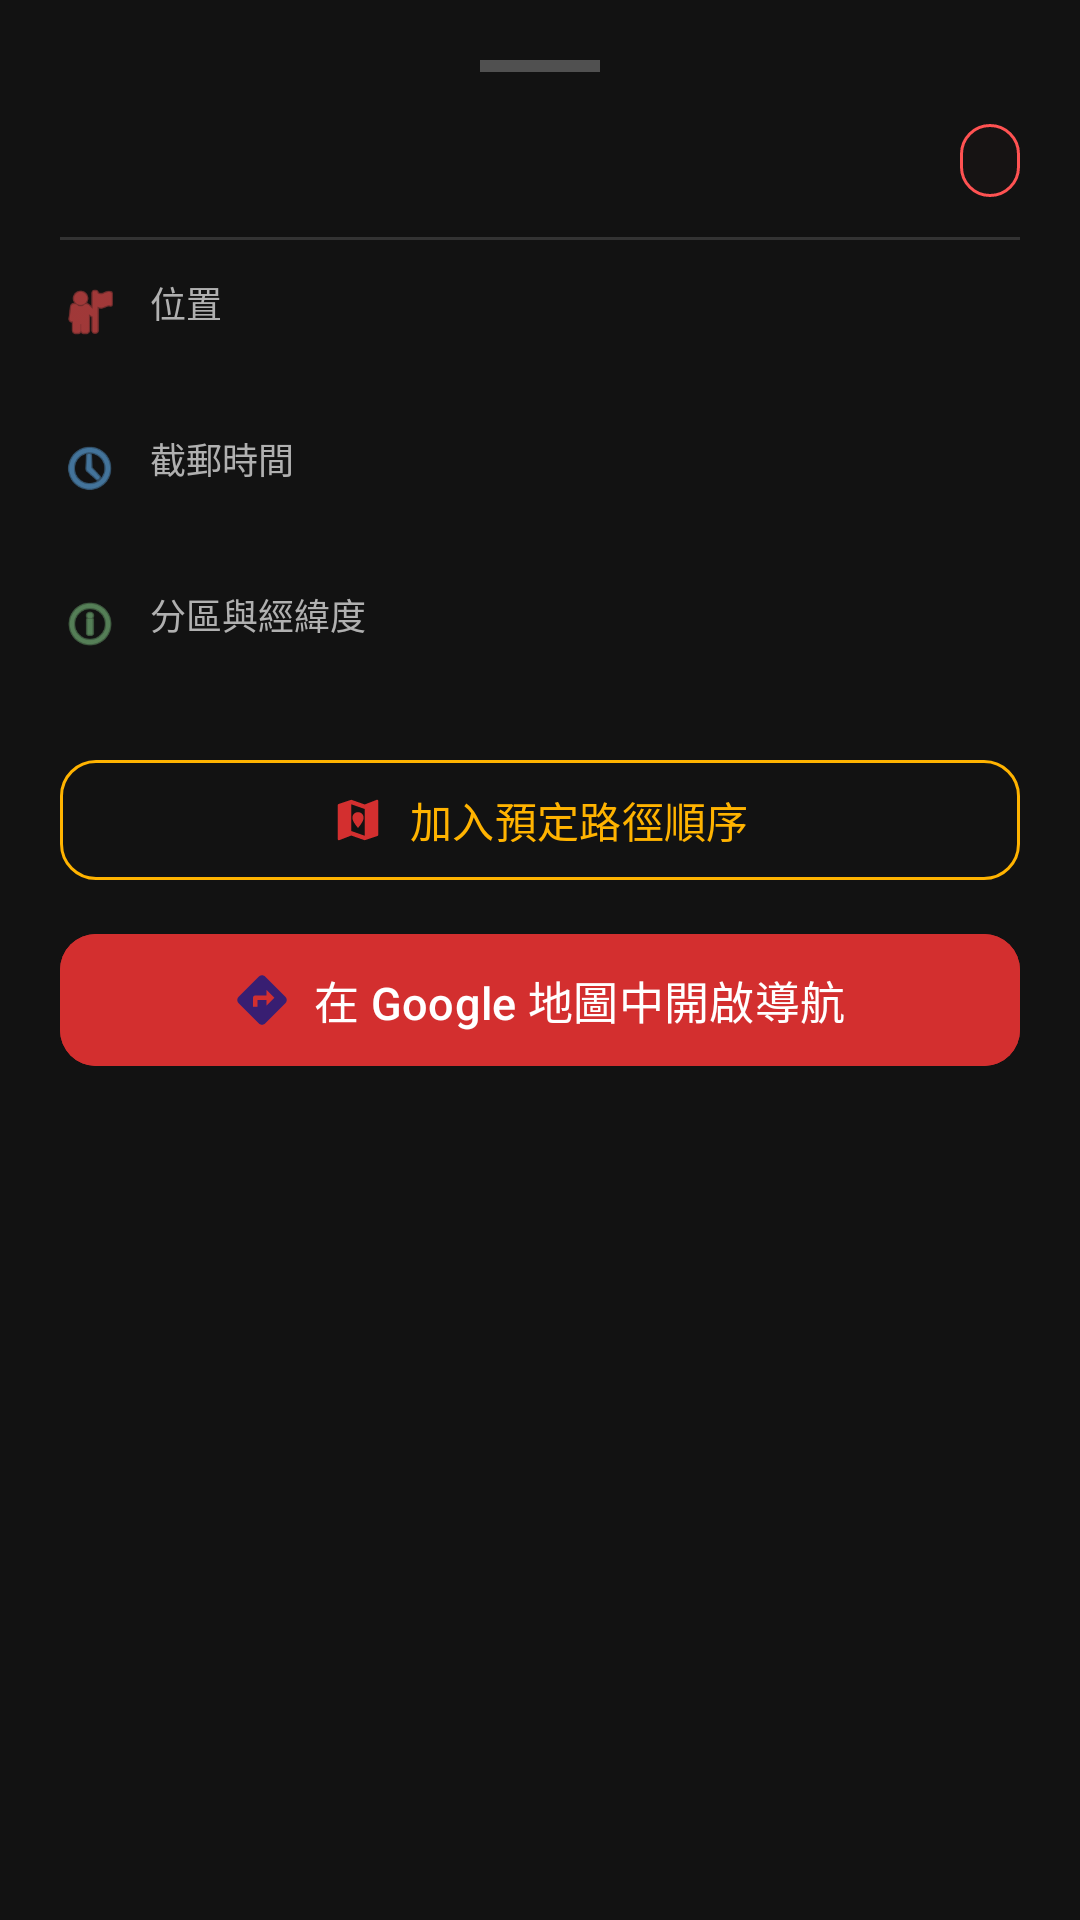

Screen size 1080*1920. Icon name, then its center in pixels as (x=x, y=y):
Collection time icon: (x=89, y=468)
Info icon: (x=90, y=624)
